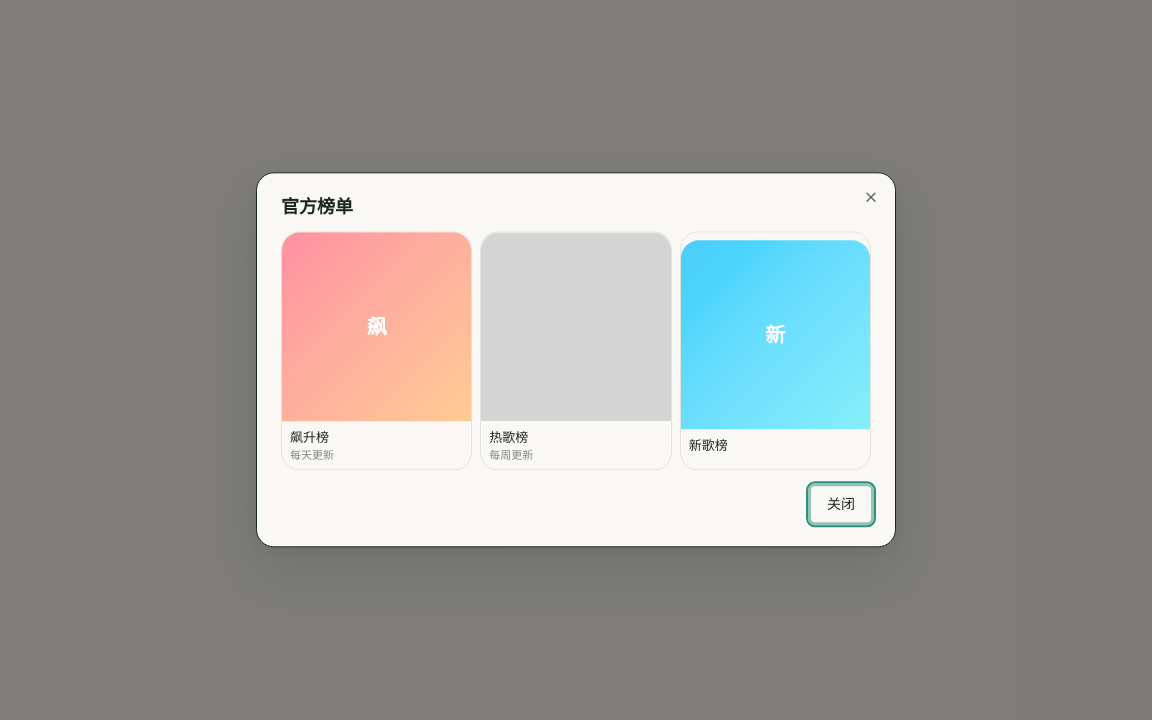
it: ChartsBrowseDialog › 榜单歌曲缓存：返回再进同一榜单不重复请求 playlist
Click the text "飙升榜" at x=310, y=438, box [290,429,329,447]
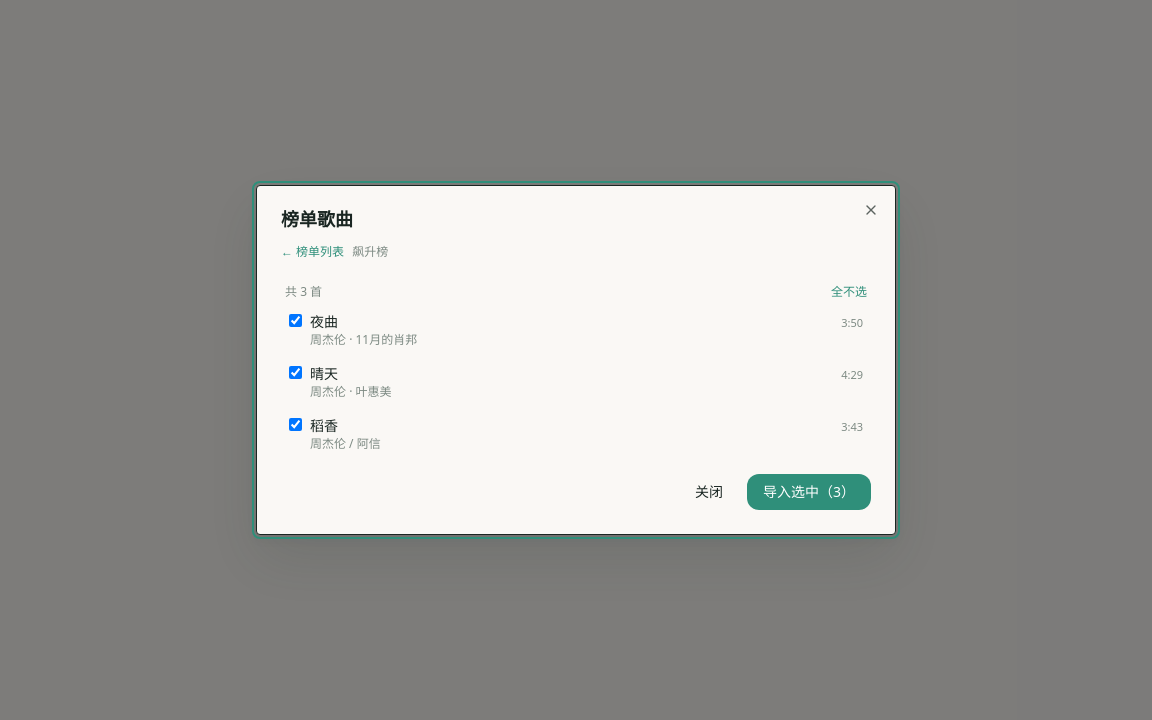
Check: the list with test id "song-list" is shown, box [281,306,871,458]
Click the button with test id "back-button" at x=313, y=252, box [281,244,344,260]
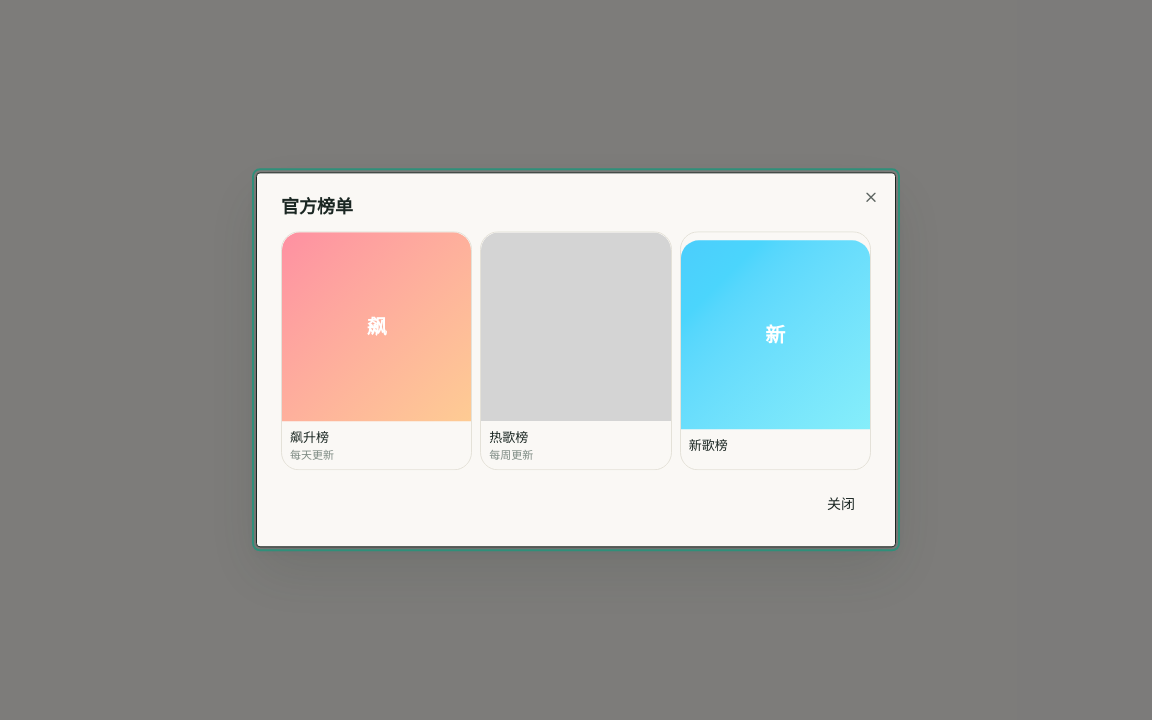
Check: the element with test id "charts-grid" is shown, box [281,231,871,471]
Click the text "飙升榜" at x=310, y=438, box [290,429,329,447]
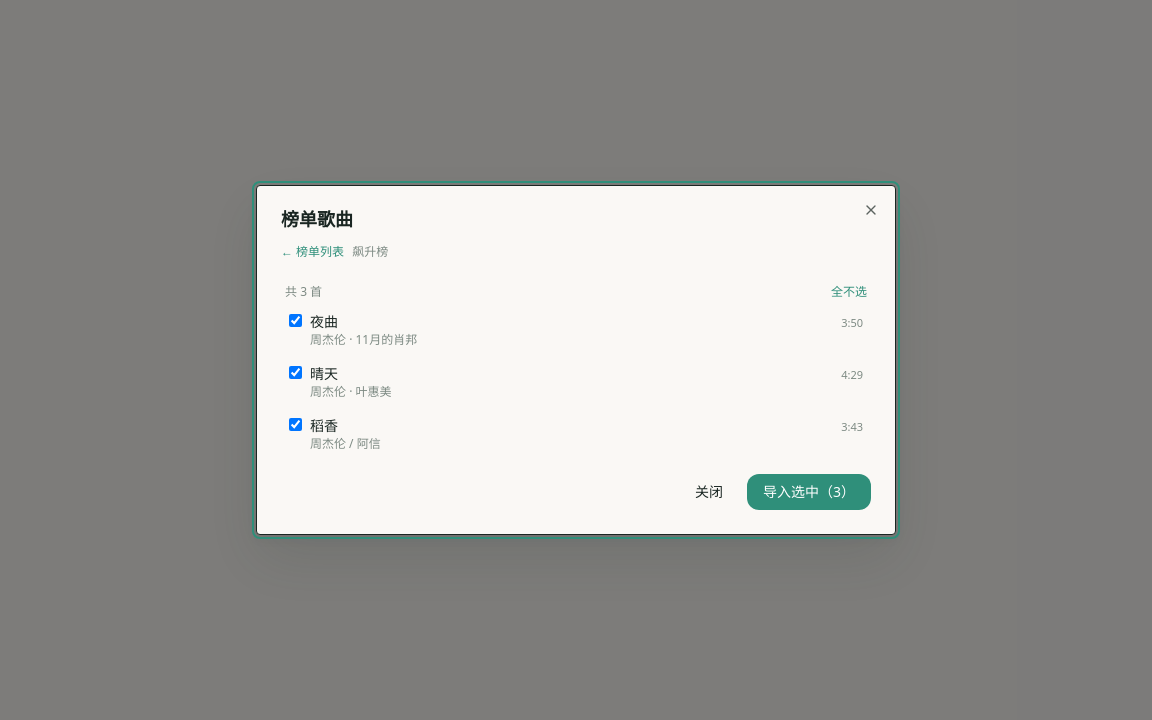
Check: the list with test id "song-list" is shown, box [281,306,871,458]
